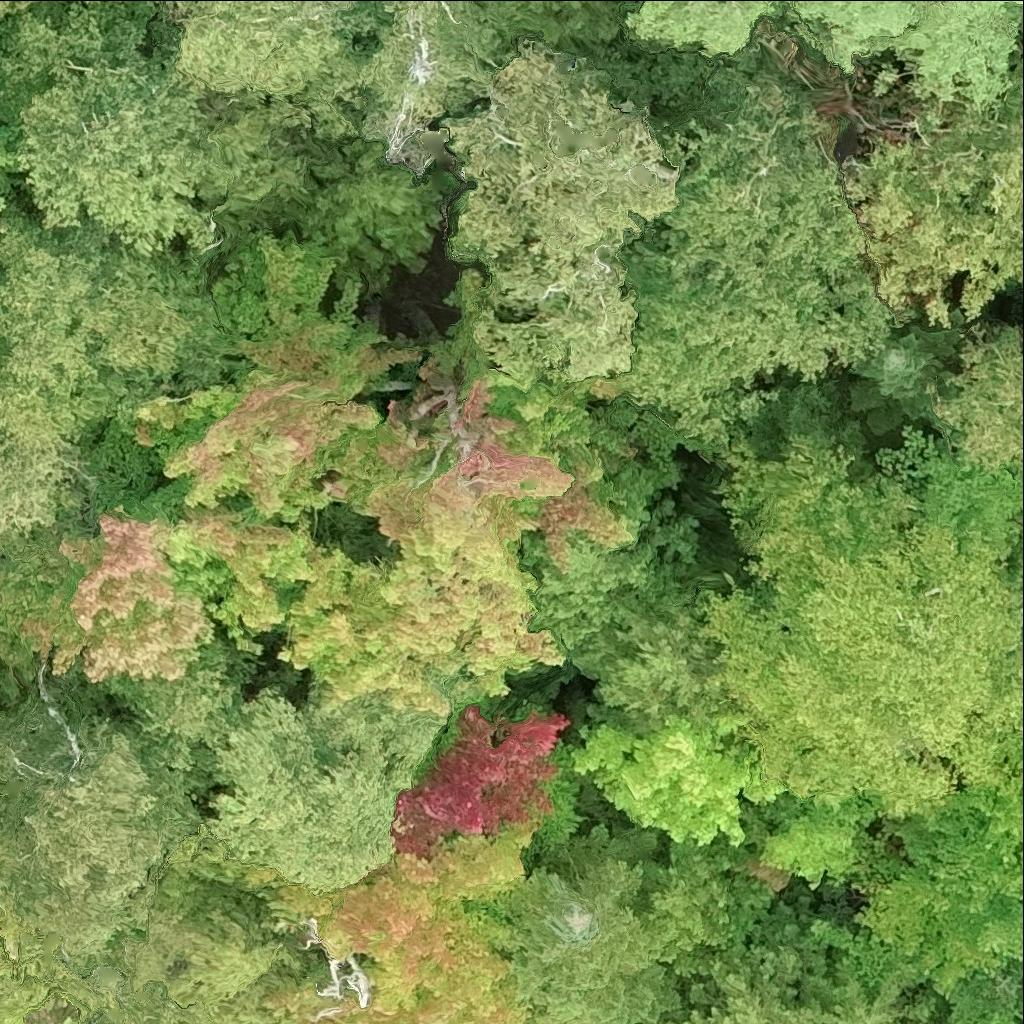crown: (272, 266, 634, 729), (694, 429, 1023, 820), (239, 699, 589, 1023), (597, 93, 913, 440), (134, 234, 422, 527), (0, 208, 248, 538), (444, 49, 681, 394), (0, 3, 237, 257), (0, 687, 204, 974), (0, 504, 330, 681), (841, 57, 1023, 326), (208, 688, 446, 892), (627, 0, 1023, 111), (504, 469, 714, 666), (508, 824, 685, 1023), (171, 0, 398, 134), (574, 711, 775, 847), (365, 0, 518, 176), (570, 577, 726, 738), (92, 634, 254, 785), (632, 827, 776, 974), (671, 899, 828, 1023), (847, 307, 964, 435), (929, 325, 1023, 481), (0, 889, 72, 1023), (800, 960, 938, 1023), (985, 734, 1023, 902), (0, 126, 24, 172), (0, 0, 46, 20), (527, 1000, 546, 1023), (657, 1015, 678, 1023), (0, 189, 7, 213)
